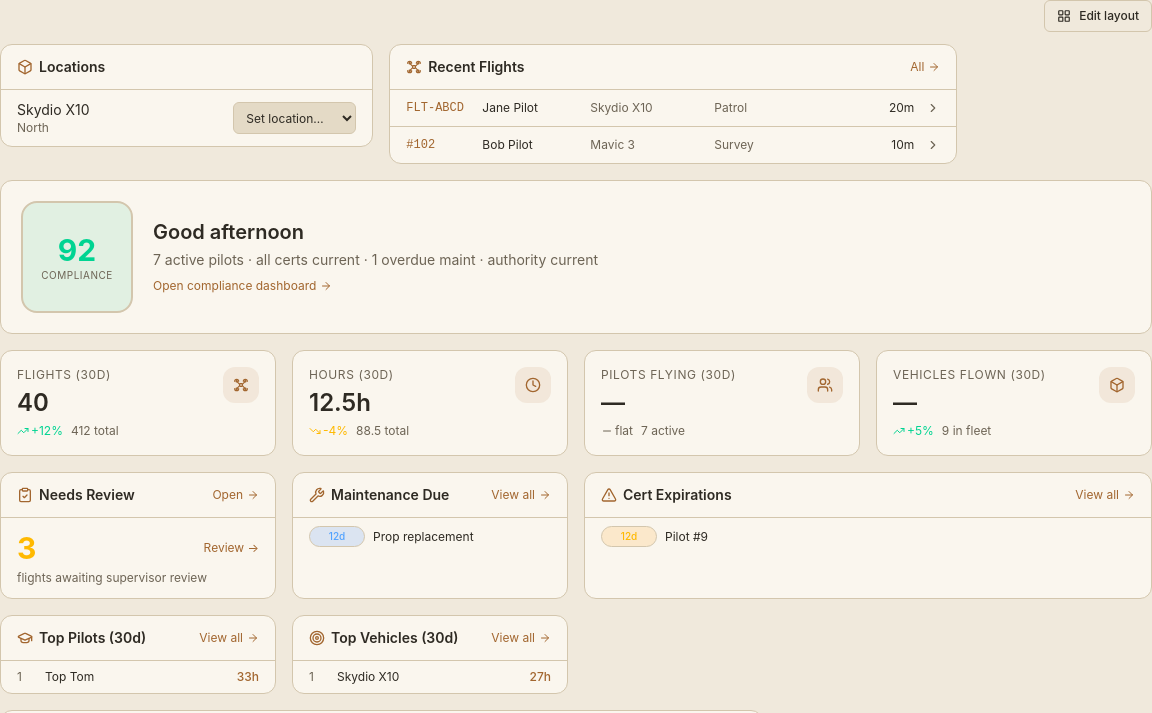
Test: DashboardPage › arranging › tells an admin with their own layout that it still applies to them
Expected: the text "7 active pilots" is shown, top-left (153, 251), bottom-right (244, 268)
Click the button "Edit layout": click(1098, 16) top-left (1044, 0), bottom-right (1151, 32)
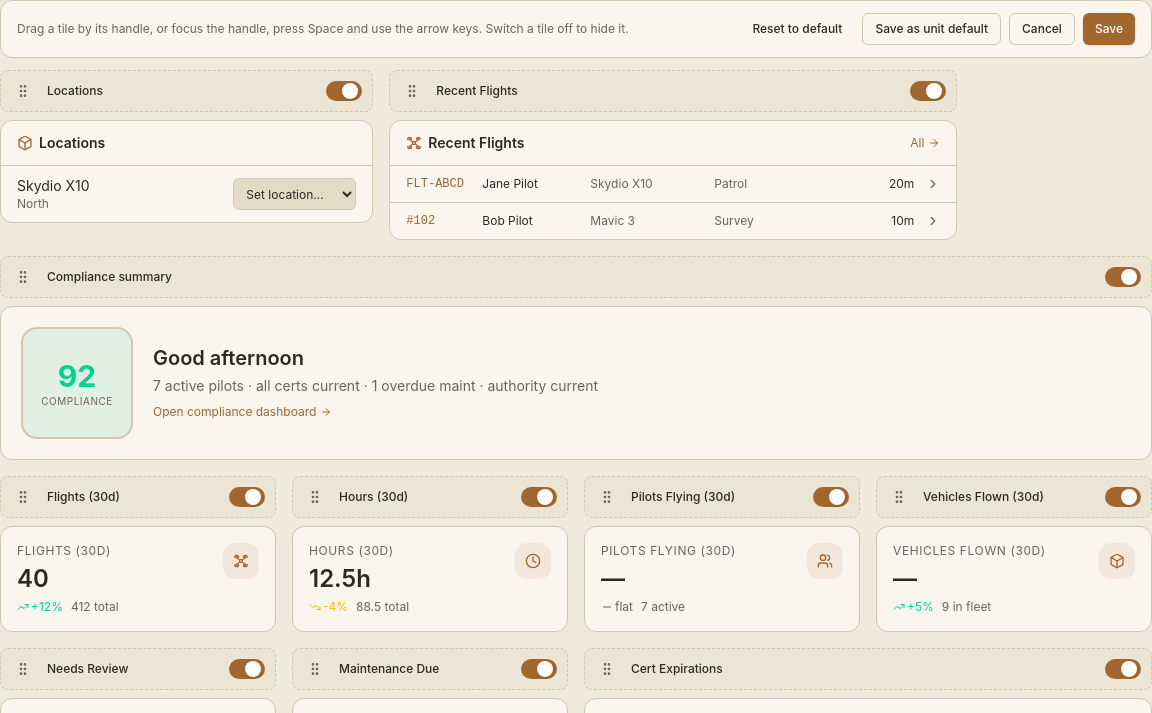
Click the button "Save as unit default": click(932, 29) top-left (862, 13), bottom-right (1001, 45)
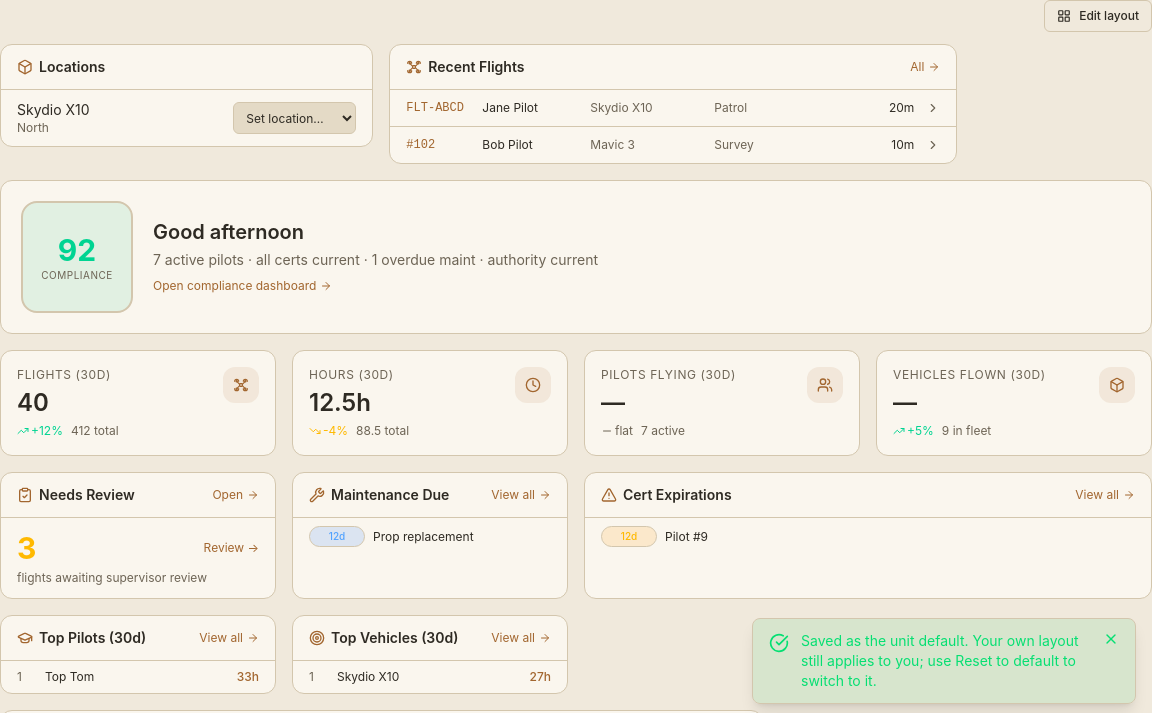
Expected: the text "Your own layout still applies to you" is shown, top-left (801, 632), bottom-right (1078, 689)
